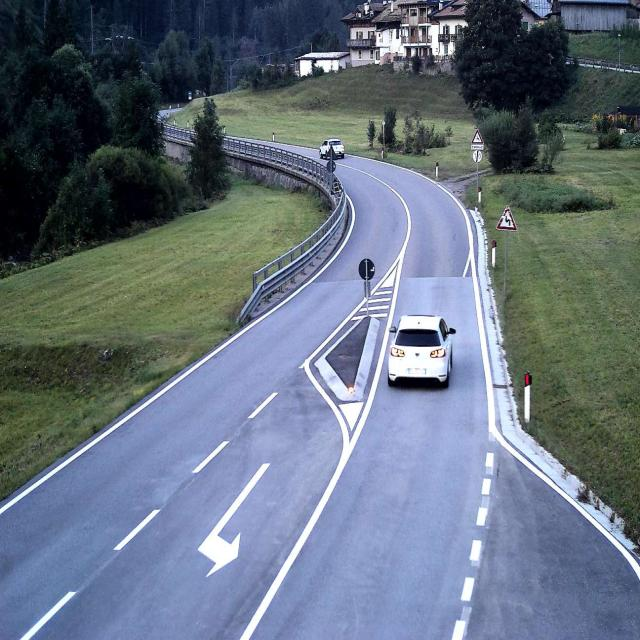car: (387, 314, 456, 387), (319, 138, 345, 160)
